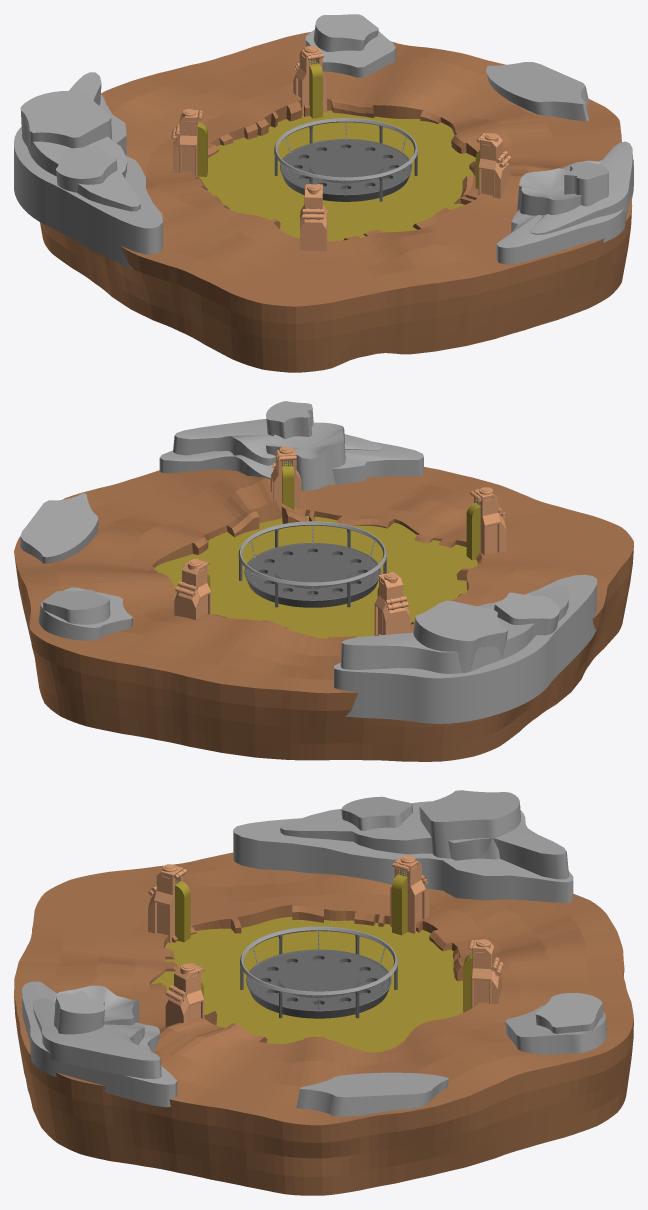
Rendered from Arena.fbx.
The picture shows the model from 3 angles, top to bottom: view 1: azimuth 30°, elevation 25°; view 2: azimuth 150°, elevation 25°; view 3: azimuth 270°, elevation 25°; orthographic projection. The views are drawn at different scales.
Parts seen in each view (by area): view 1: SM_land, SM_lava, SM_rockform3, SM_platform, lava_spouts (×4), SM_rockform11, SM_rockform6, SM_rockform7, SM_rockform4, SM_rockform8, SM_rockform9, SM_rockform1 (+6 smaller); view 2: SM_land, SM_lava, SM_rockform3, SM_platform, SM_rockform4, lava_spouts (×4), SM_rockform7, SM_rockform6, SM_rockform11, SM_rockform8, SM_rockform9, SM_rockform1 (+6 smaller); view 3: SM_land, SM_lava, SM_rockform3, SM_platform, SM_rockform4, lava_spouts (×4), SM_rockform8, SM_rockform11, SM_rockform6, SM_rockform7, SM_rockform1, SM_rockform2 (+6 smaller).
Part boxes in pixels (<box>): SM_land: <box>40,32,632,372</box>; SM_lava: <box>198,110,475,241</box>; SM_rockform3: <box>14,94,162,269</box>; SM_platform: <box>280,139,412,201</box>; lava_spouts (×4): <box>173,47,510,251</box>; SM_rockform11: <box>486,62,589,121</box>; SM_rockform6: <box>20,91,111,155</box>; SM_rockform7: <box>496,159,633,264</box>; SM_rockform4: <box>22,72,140,211</box>; SM_rockform8: <box>529,141,633,234</box>; SM_rockform9: <box>517,168,581,215</box>; SM_rockform1: <box>305,29,396,77</box>; SM_land: <box>14,467,633,761</box>; SM_lava: <box>155,516,478,638</box>; SM_rockform3: <box>334,574,596,723</box>; SM_platform: <box>244,543,381,607</box>; SM_rockform4: <box>340,585,568,673</box>; lava_spouts (×4): <box>174,449,506,635</box>; SM_rockform7: <box>159,441,423,484</box>; SM_rockform6: <box>413,600,507,672</box>; SM_rockform11: <box>20,493,98,563</box>; SM_rockform8: <box>173,419,382,465</box>; SM_rockform9: <box>266,422,345,490</box>; SM_rockform1: <box>38,587,132,640</box>; SM_land: <box>14,852,633,1195</box>; SM_lava: <box>151,916,463,1052</box>; SM_rockform3: <box>233,818,573,902</box>; SM_platform: <box>246,949,391,1018</box>; SM_rockform4: <box>280,801,569,879</box>; lava_spouts (×4): <box>148,857,501,1026</box>; SM_rockform8: <box>33,998,161,1079</box>; SM_rockform11: <box>296,1072,448,1116</box>; SM_rockform6: <box>419,790,520,859</box>; SM_rockform7: <box>22,981,177,1107</box>; SM_rockform1: <box>505,1005,606,1054</box>; SM_rockform2: <box>535,993,603,1033</box>.
Size of the model in its own units: 186 by 47.25 by 173.
